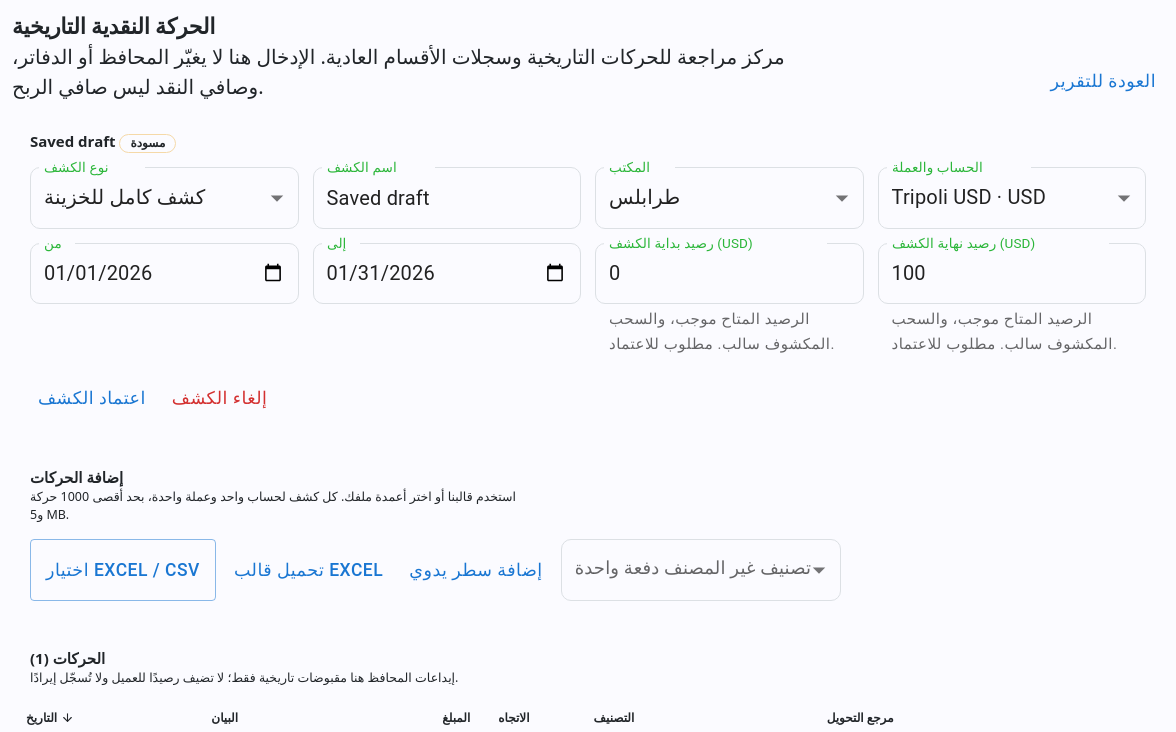
Test: unsaved edits cannot approve the previously saved draft
Expected: the button "اعتماد الكشف" is enabled, [30, 377, 154, 420]
Replace the text in the field labelled "اسم الكشف" with "Unsaved changes" at coordinates (447, 198), box [312, 167, 581, 229]
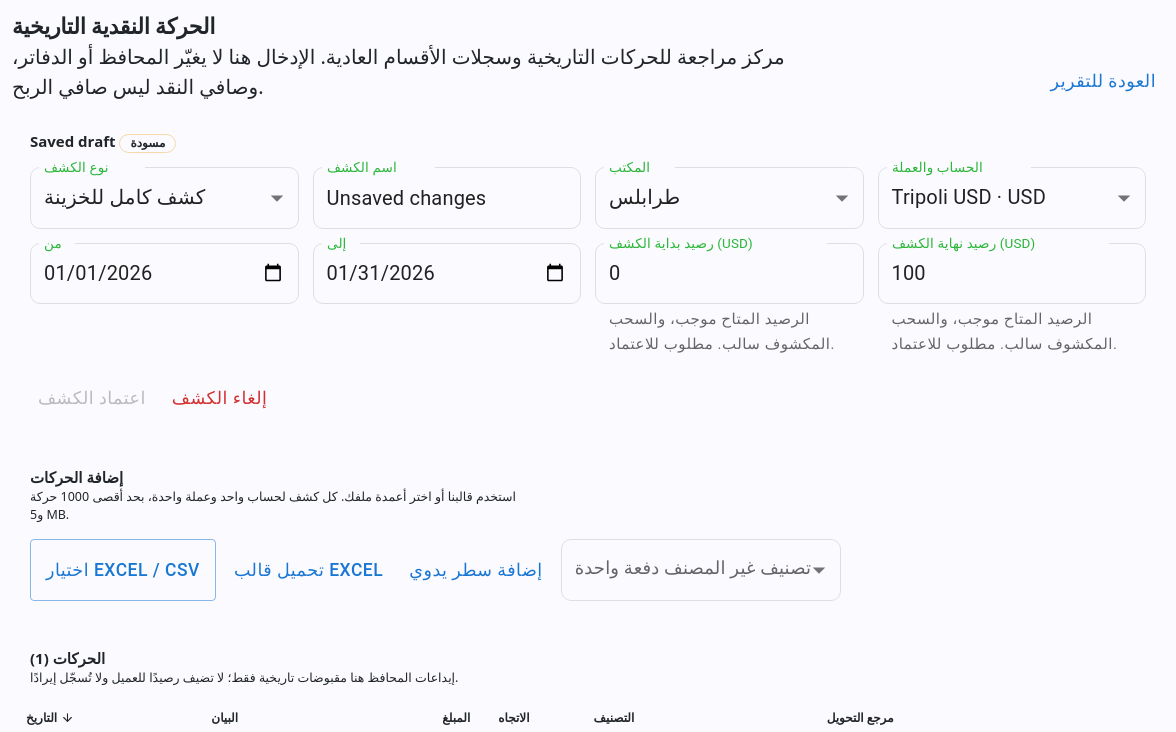
Expected: the button "اعتماد الكشف" is disabled, [30, 377, 154, 420]
